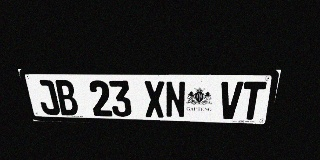2: (88, 80, 113, 116)
3: (109, 80, 132, 117)
B: (53, 80, 80, 116)
J: (34, 80, 61, 115)
N: (165, 81, 186, 118)
T: (239, 82, 267, 120)
V: (218, 81, 244, 119)
X: (143, 81, 165, 118)
